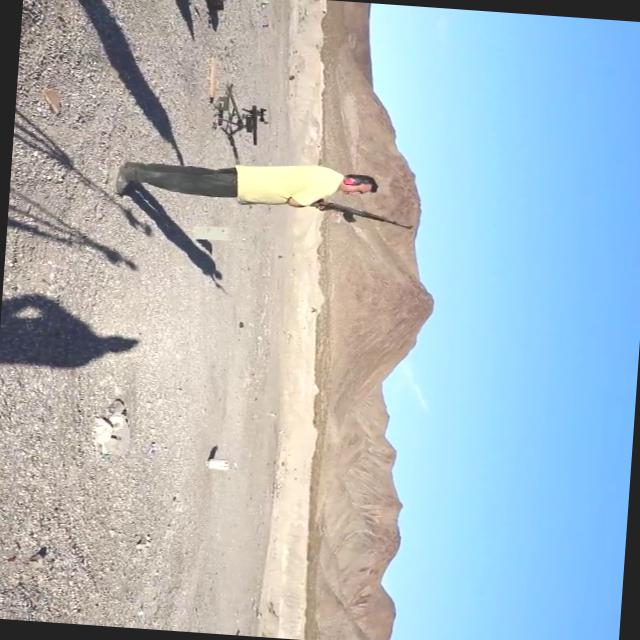long weapon: (295, 192, 422, 246), (212, 94, 290, 154)
